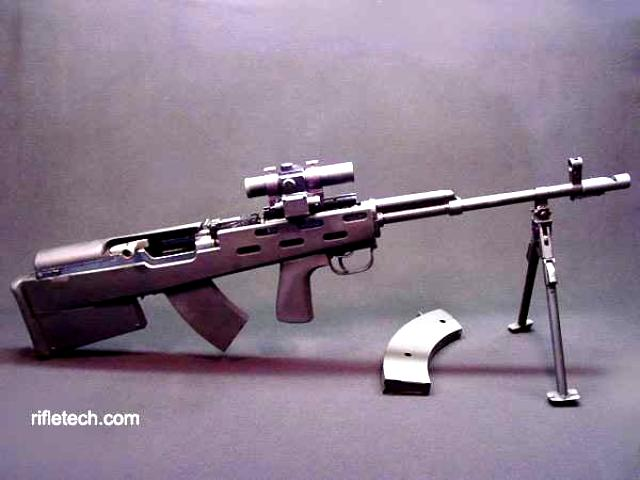rifle: (7, 110, 636, 377)
